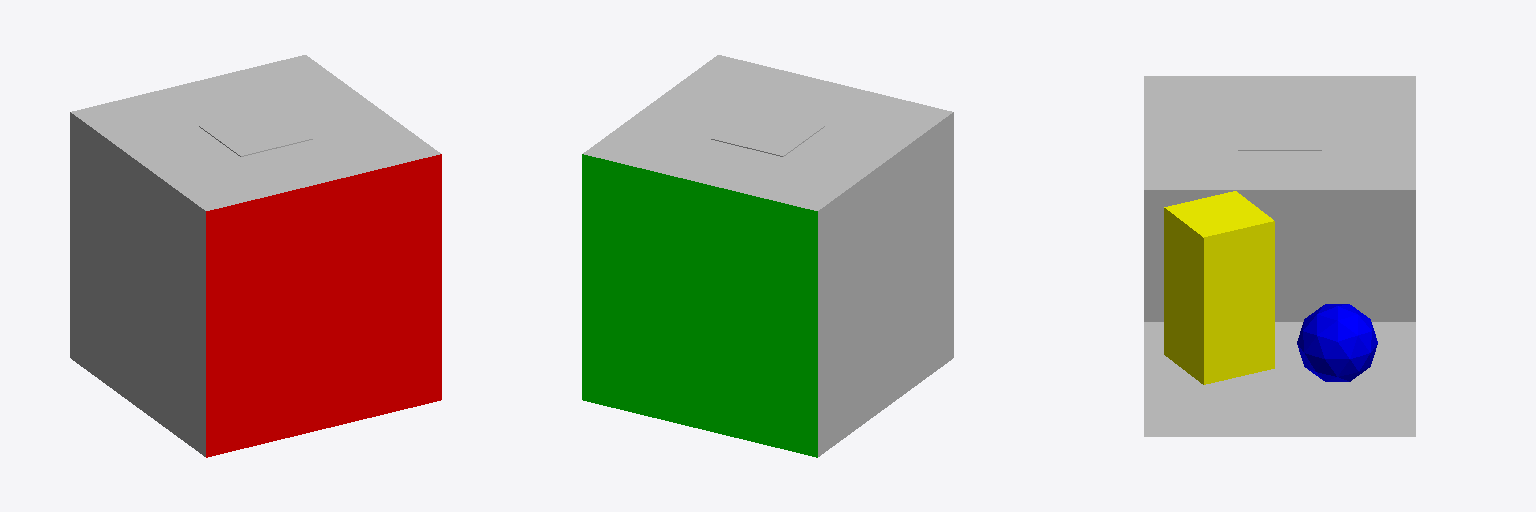
File: cornellbox.obj
3 views of the same model, side by side, from view 1: azimuth 30°, elevation 25°; view 2: azimuth 150°, elevation 25°; view 3: azimuth 270°, elevation 25° (orthographic).
Visible parts, largest first — view 1: leftwall_Plane.001, backwall_Plane.003, ceiling_Plane.004, lightcube_Cube.003; view 2: rightwall_Plane.002, backwall_Plane.003, ceiling_Plane.004, lightcube_Cube.003; view 3: ceiling_Plane.004, backwall_Plane.003, floor_Plane, cube2_Cube.002, Icosphere, lightcube_Cube.003.
Part boxes in pixels (left/top/right/bottom): leftwall_Plane.001: left=206, top=154, right=441, bottom=457; backwall_Plane.003: left=70, top=112, right=205, bottom=456; ceiling_Plane.004: left=71, top=55, right=440, bottom=210; lightcube_Cube.003: left=199, top=108, right=312, bottom=156; rightwall_Plane.002: left=582, top=154, right=817, bottom=457; backwall_Plane.003: left=818, top=112, right=953, bottom=456; ceiling_Plane.004: left=583, top=55, right=952, bottom=210; lightcube_Cube.003: left=711, top=108, right=824, bottom=156; ceiling_Plane.004: left=1144, top=76, right=1415, bottom=189; backwall_Plane.003: left=1144, top=190, right=1415, bottom=321; floor_Plane: left=1144, top=322, right=1415, bottom=436; cube2_Cube.002: left=1164, top=191, right=1274, bottom=384; Icosphere: left=1297, top=304, right=1377, bottom=381; lightcube_Cube.003: left=1238, top=114, right=1321, bottom=150.
Bounding box in the file's own units: 10 × 10.07 × 10.